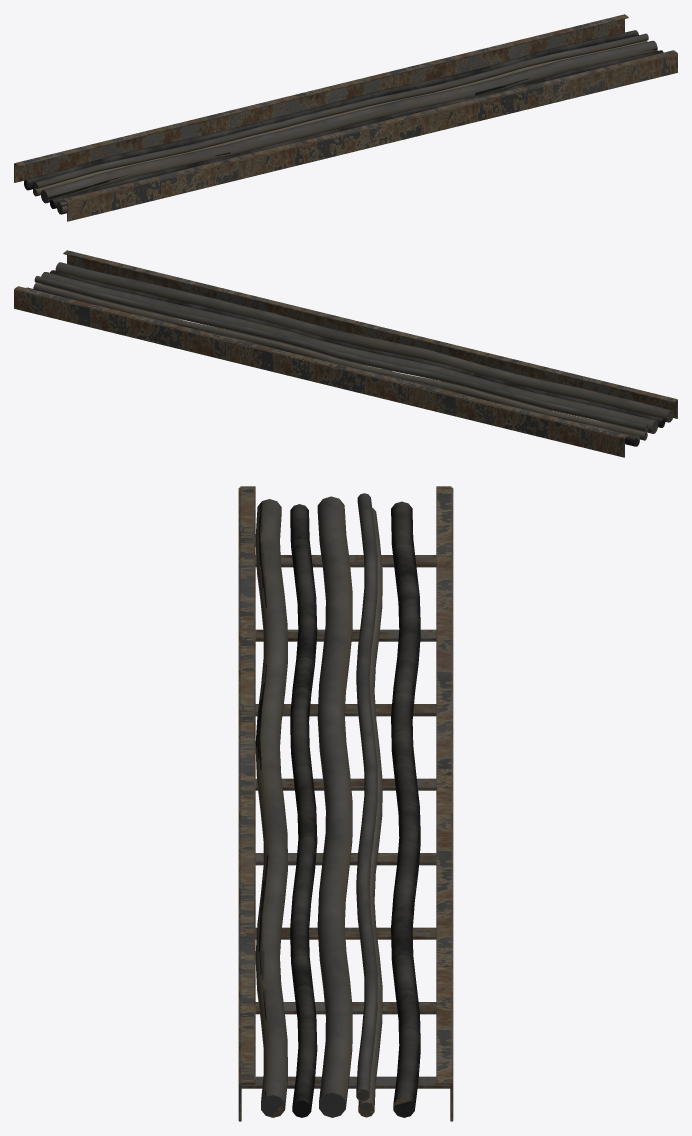
Rendered from Cable_Tray_2m.fbx.
3 views of the same model, one above another, from view 1: azimuth 30°, elevation 25°; view 2: azimuth 150°, elevation 25°; view 3: azimuth 270°, elevation 25° (orthographic). The views are drawn at different scales.
Parts seen in each view (by area): view 1: Cable_Tray_2m_Mesh; view 2: Cable_Tray_2m_Mesh; view 3: Cable_Tray_2m_Mesh.
Part boxes in pixels (x1,y1,x2,y2): Cable_Tray_2m_Mesh: [14, 14, 677, 221]; Cable_Tray_2m_Mesh: [14, 250, 677, 457]; Cable_Tray_2m_Mesh: [238, 486, 453, 1121].
Bounding box in the file's own units: 2 × 0.062 × 0.304.
